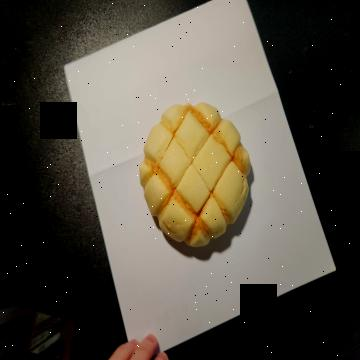melon_bread: (139, 102, 250, 250)
